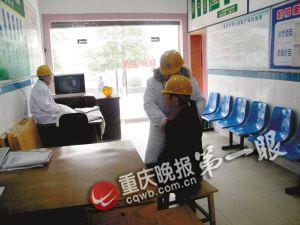helmet: (159, 48, 191, 75), (163, 76, 194, 95), (37, 65, 53, 80)
